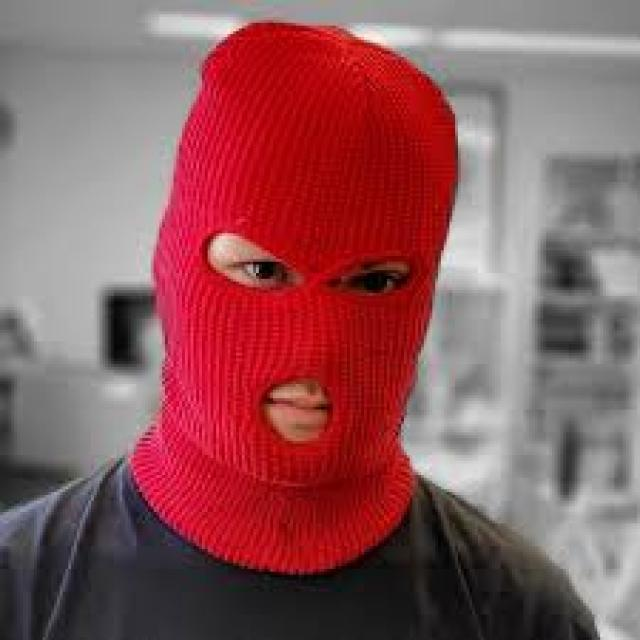person-with-mask: (14, 4, 634, 640)
